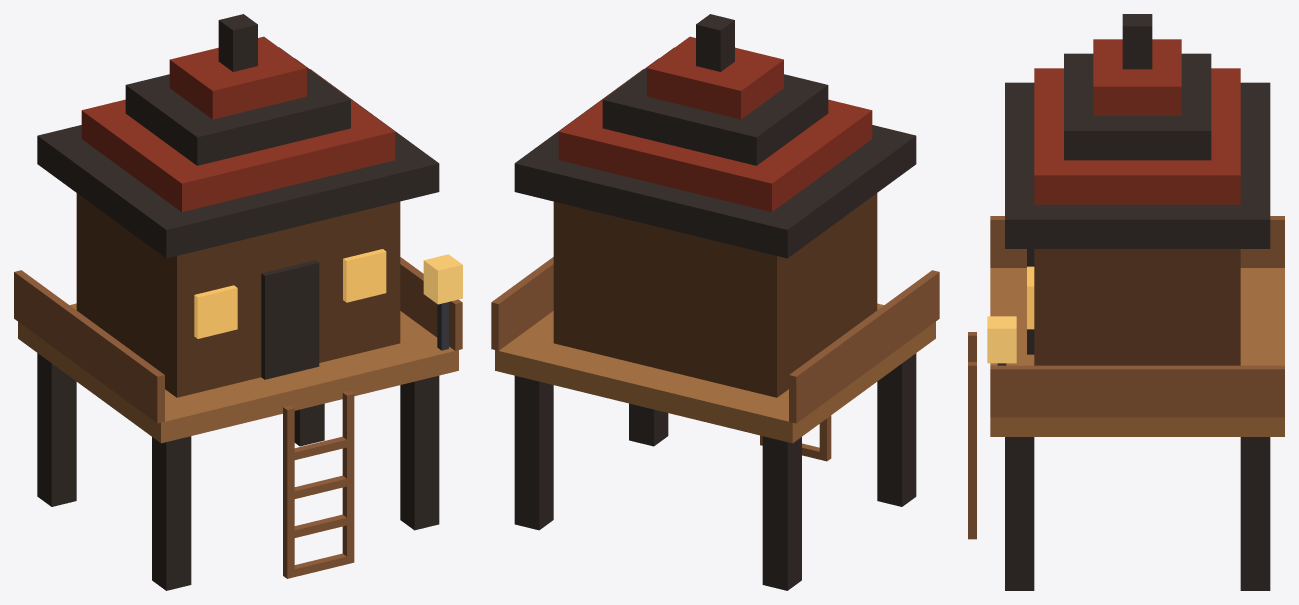
File: StiltHut.glb
3 renders of one model, left to right at view 1: azimuth 30°, elevation 25°; view 2: azimuth 150°, elevation 25°; view 3: azimuth 270°, elevation 25°, orthographic. The views are drawn at different scales.
Visible parts, largest first — view 1: StiltHut; view 2: StiltHut; view 3: StiltHut.
Boxes of the visible parts, x1=… form: StiltHut: x1=14, y1=14, x2=462, y2=590; StiltHut: x1=491, y1=14, x2=939, y2=590; StiltHut: x1=968, y1=14, x2=1284, y2=590.
Size of the model in its own units: 12.3 by 18.8 by 10.75.
2 materials, 2 textured.
